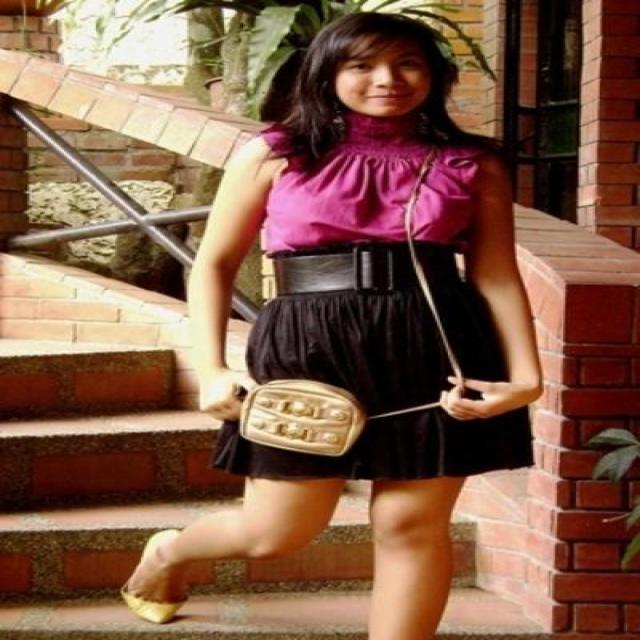bag: (208, 269, 461, 455)
shirt: (261, 105, 493, 252)
shoe: (112, 591, 171, 626)
skirt: (202, 269, 534, 481)
